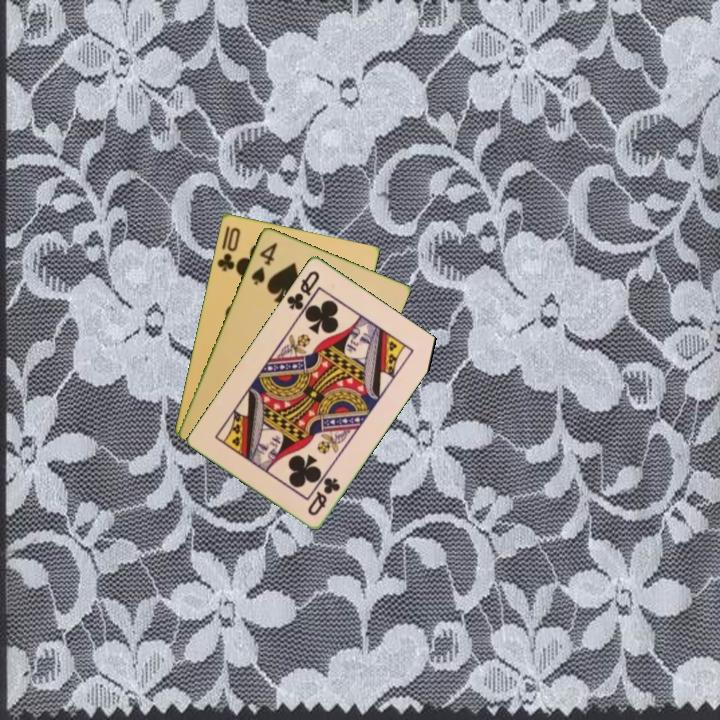10c: (213, 224, 243, 274)
4s: (247, 238, 280, 288)
Qc: (283, 266, 323, 318), (304, 473, 343, 518)
